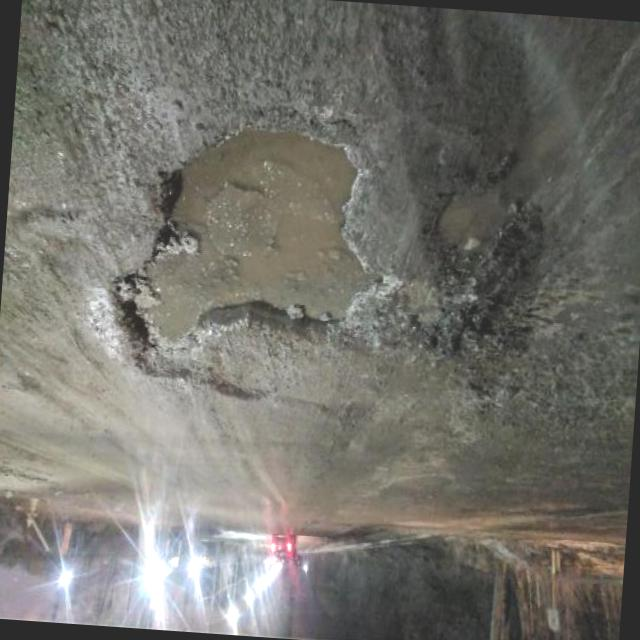pothole: (96, 114, 402, 406)
